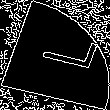L_W: (19, 32, 91, 78)
